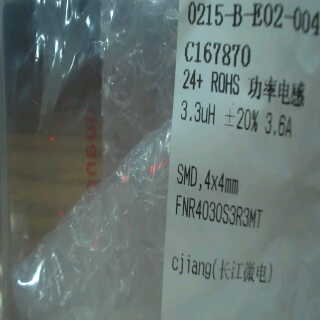3.3uH: (178, 91, 215, 134)
